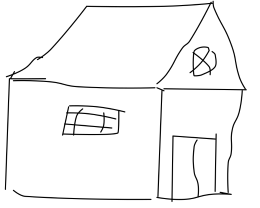big_house: (0, 0, 258, 206)
closed_window: (52, 99, 128, 139), (186, 43, 225, 81)
door: (164, 124, 225, 203)
roof: (2, 0, 246, 92)
wall: (2, 70, 167, 204)
